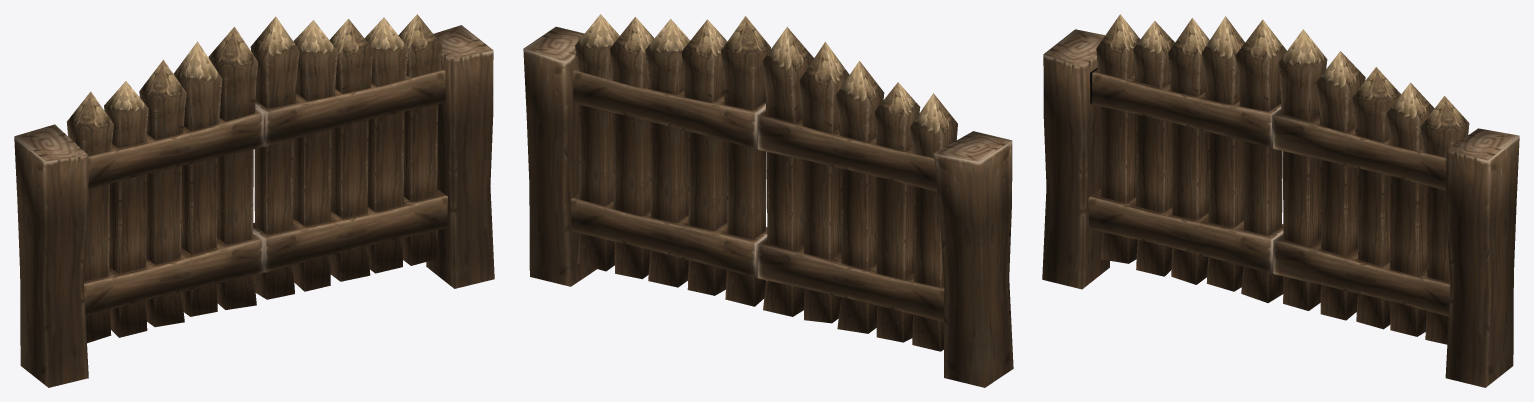
Rendered from Anmaodao_juma02.FBX.
The picture shows the model from 3 angles, left to right: view 1: azimuth 30°, elevation 25°; view 2: azimuth 150°, elevation 25°; view 3: azimuth 330°, elevation 25°; orthographic projection. The views are drawn at different scales.
Parts seen in each view (by area): view 1: Anmaodao_juma02; view 2: Anmaodao_juma02; view 3: Anmaodao_juma02.
Part boxes in pixels (<box>): Anmaodao_juma02: <box>14,14,494,387</box>; Anmaodao_juma02: <box>523,14,1013,387</box>; Anmaodao_juma02: <box>1042,14,1519,387</box>.
Size of the model in its own units: 177 by 24.77 by 113.
